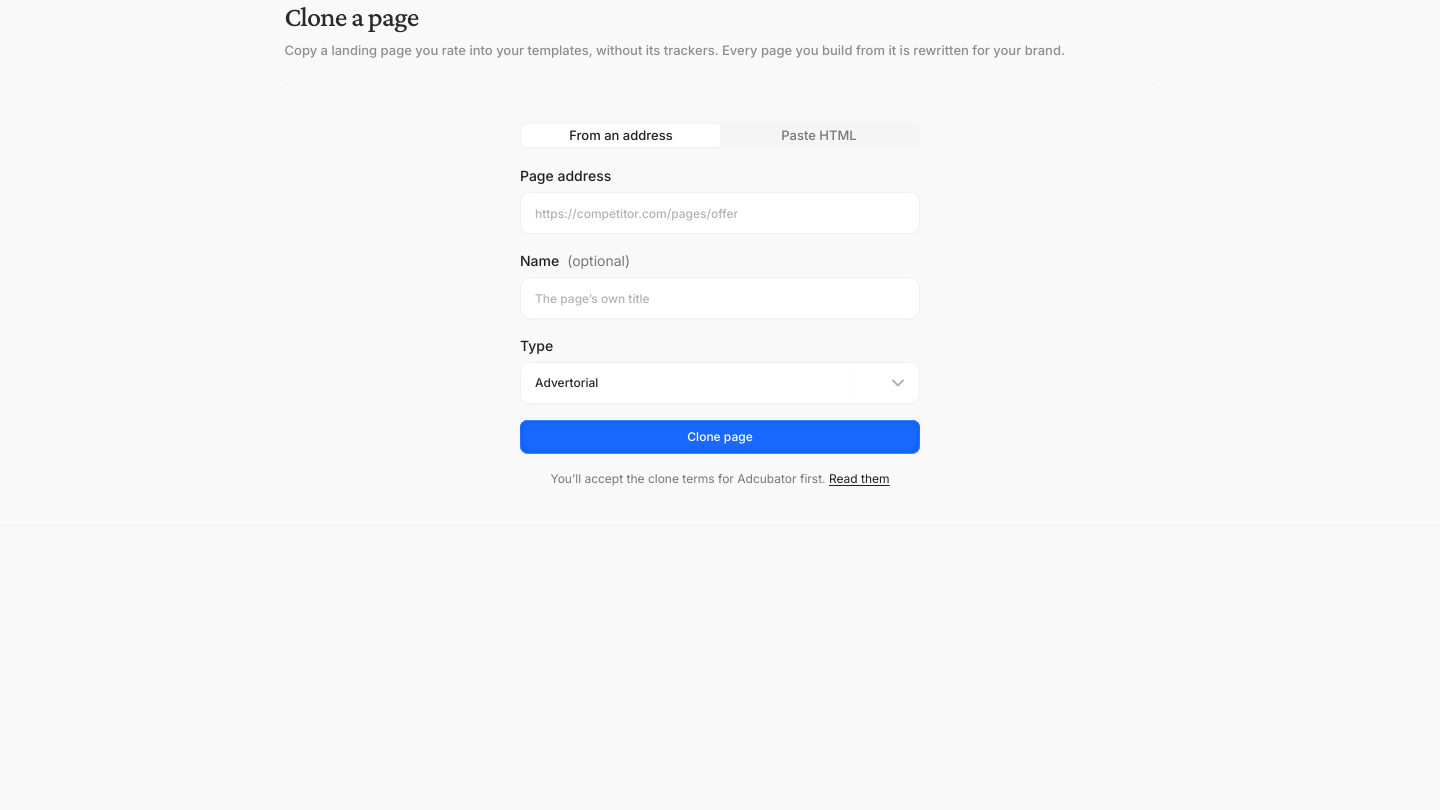
CloneFlow › asks for the terms on the first clone, then accepts them and starts the clone
The width and height of the screenshot is (1440, 810).
Expected: the text "You’ll accept the clone terms for Adcubator first. Read them" is shown, x1=550 y1=470 x2=890 y2=488
Type "resilia.shop/pages/gut" into the field labelled "Page address" at (720, 213), box x1=520 y1=192 x2=920 y2=234
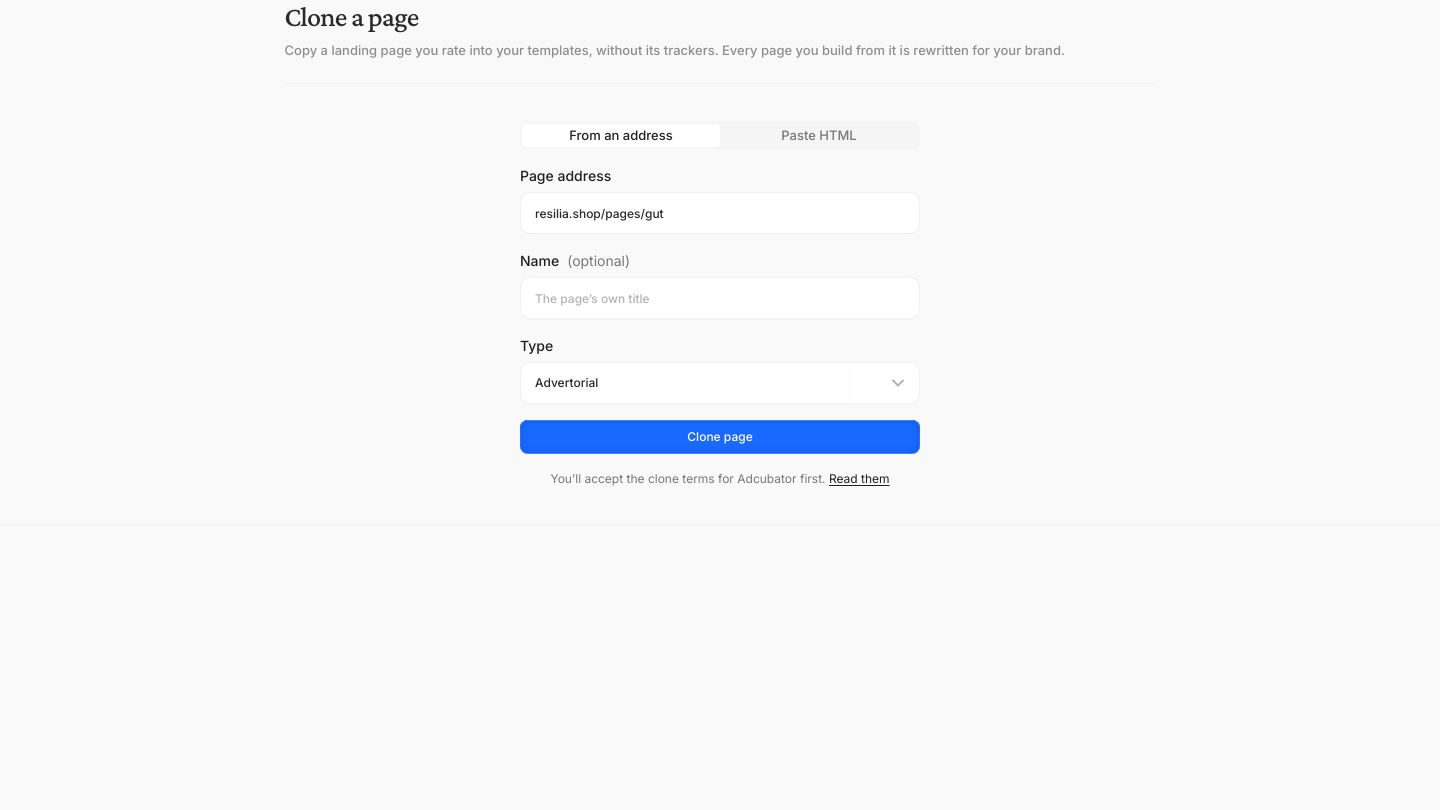
Click the button "Clone page" at (720, 437), box x1=520 y1=420 x2=920 y2=454
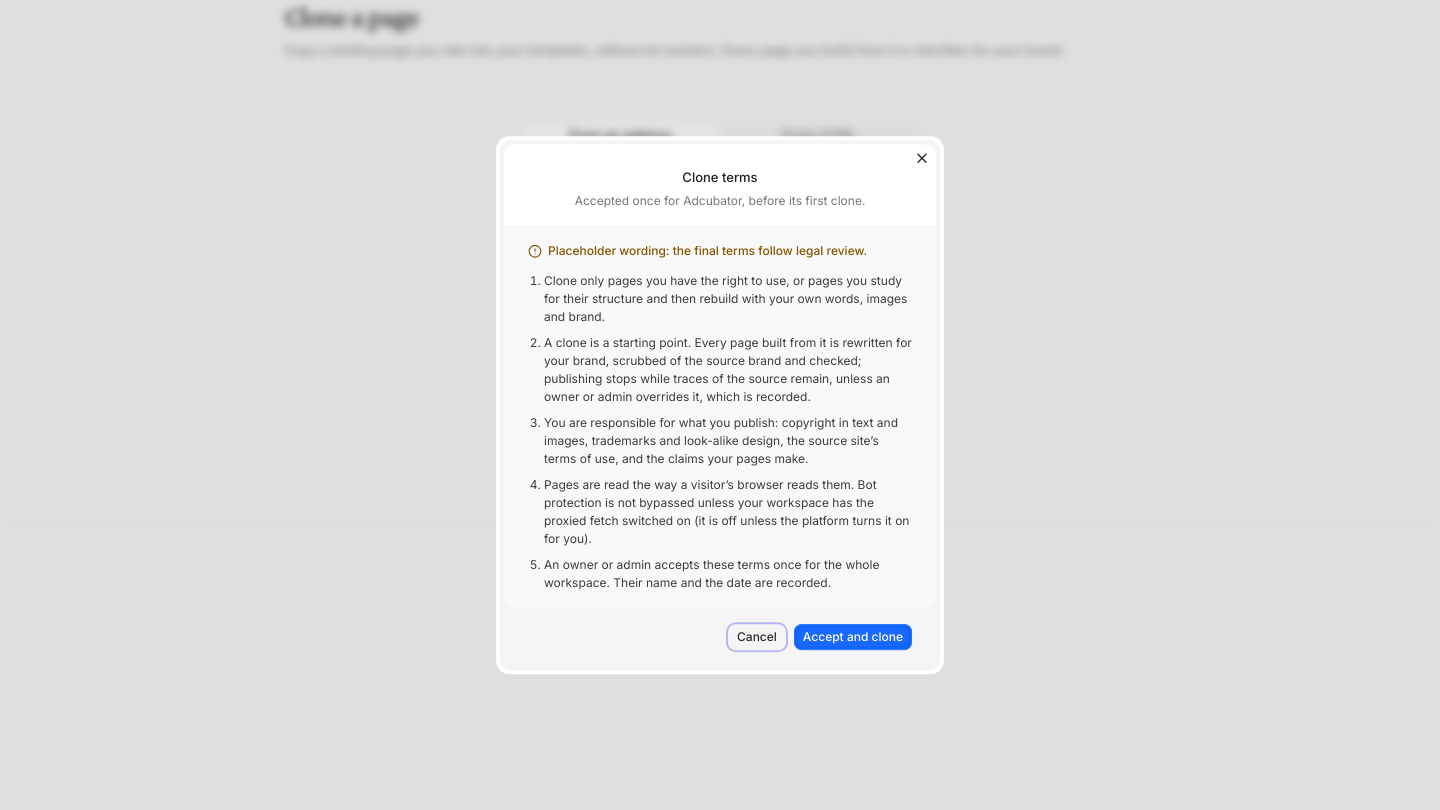
Result: the text "Placeholder wording: the final terms follow legal review." is shown at x1=528 y1=242 x2=912 y2=260
Click the button "Accept and clone" at (853, 637), box x1=794 y1=624 x2=912 y2=650
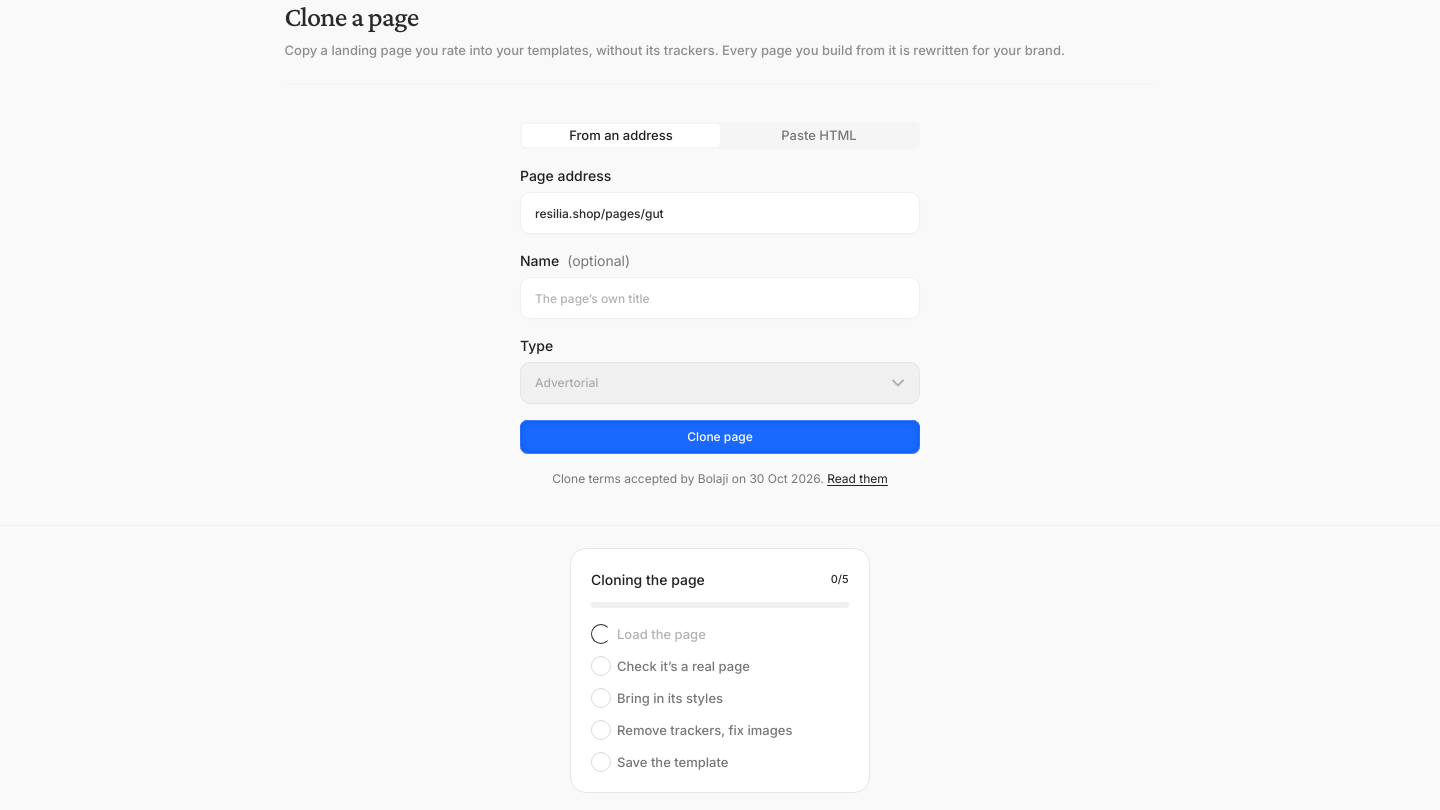
Result: the heading "Cloning the page" is shown at x1=591 y1=569 x2=705 y2=590
Result: the text "Clone terms accepted by Bolaji on 30 Oct 2026. Read them" is shown at x1=552 y1=470 x2=888 y2=488
